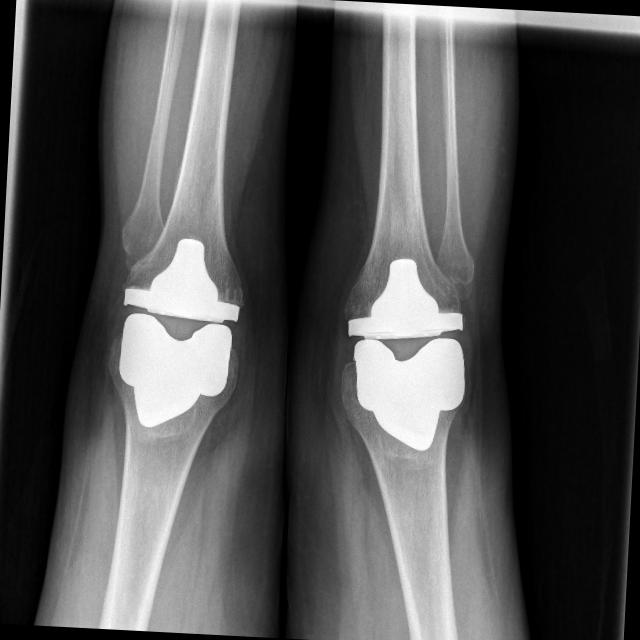Knee: (98, 229, 248, 432), (330, 251, 470, 452)
